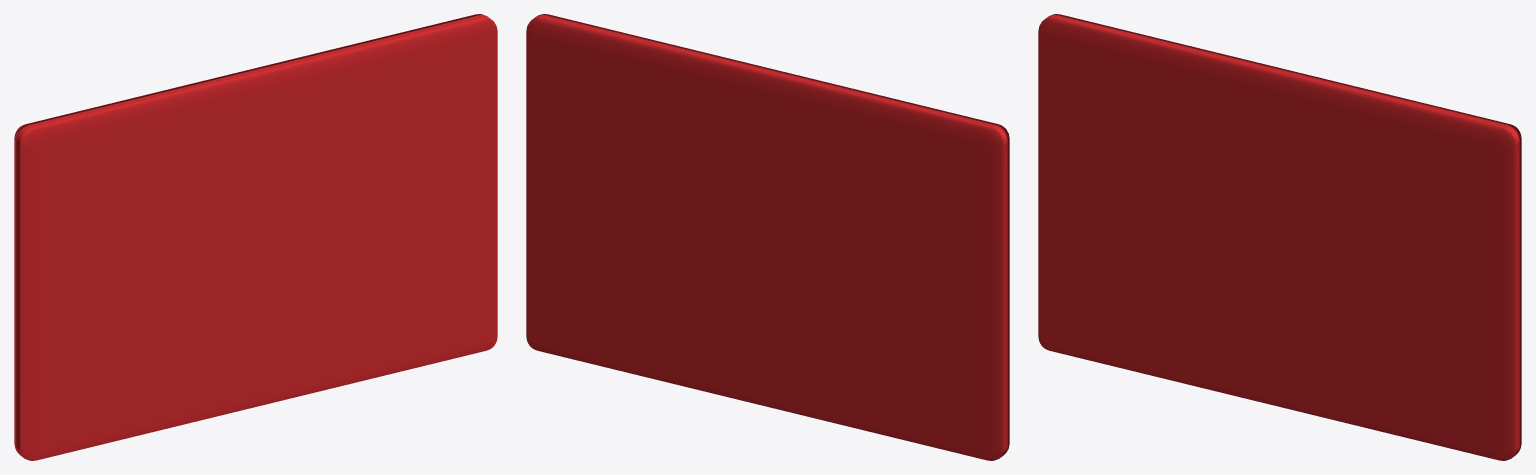
File: pads-silicone.glb
3 views of the same model, side by side, from view 1: azimuth 30°, elevation 25°; view 2: azimuth 150°, elevation 25°; view 3: azimuth 330°, elevation 25° (orthographic).
Parts seen in each view (by area): view 1: body; view 2: body; view 3: body.
Part boxes in pixels (x1,y1,x2,y2): body: [14, 14, 497, 460]; body: [526, 14, 1009, 460]; body: [1038, 14, 1521, 460].
Size of the model in its own units: 30 by 20 by 2.
